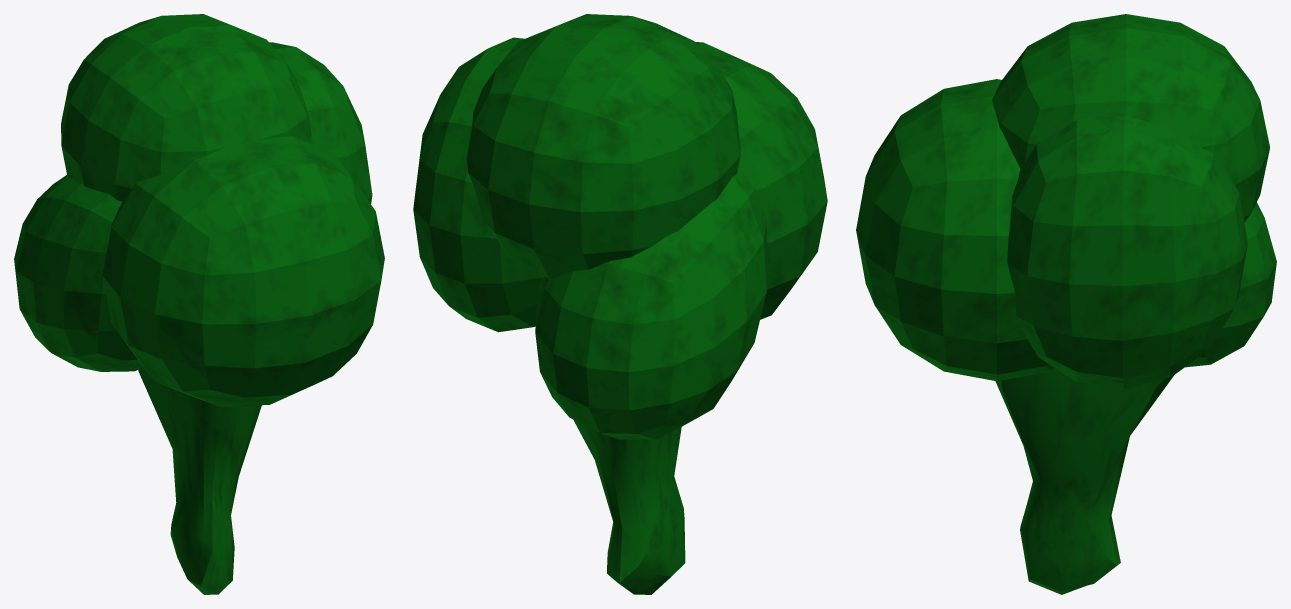
File: GameJamBrocoli.fbx
3 views of the same model, side by side, from view 1: azimuth 30°, elevation 25°; view 2: azimuth 150°, elevation 25°; view 3: azimuth 270°, elevation 25° (orthographic). The views are drawn at different scales.
Parts seen in each view (by area): view 1: Cube.001, Cube.004, Cube.002, Cube, Cube.003; view 2: Cube.004, Cube.002, Cube.003, Cube.001, Cube; view 3: Cube.003, Cube.001, Cube.004, Cube, Cube.002.
Boxes of the visible parts, left/top/right/bottom form: Cube.001: left=102, top=135, right=384, bottom=406; Cube.004: left=61, top=14, right=311, bottom=201; Cube.002: left=14, top=175, right=142, bottom=371; Cube: left=138, top=367, right=261, bottom=594; Cube.003: left=269, top=42, right=372, bottom=203; Cube.004: left=466, top=14, right=740, bottom=278; Cube.002: left=535, top=172, right=768, bottom=439; Cube.003: left=413, top=37, right=544, bottom=332; Cube.001: left=695, top=42, right=827, bottom=319; Cube: left=573, top=419, right=685, bottom=594; Cube.003: left=1007, top=116, right=1247, bottom=389; Cube.001: left=856, top=79, right=1054, bottom=381; Cube.004: left=992, top=14, right=1269, bottom=221; Cube: left=995, top=368, right=1173, bottom=594; Cube.002: left=1185, top=202, right=1276, bottom=367.
Bounding box in the file's own units: 103 × 178 × 118.
Materials: 1 (1 with a texture image).
